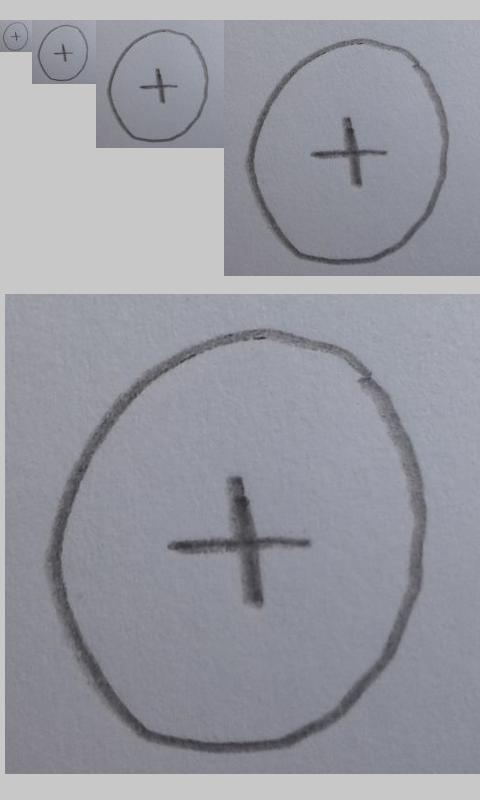button: (46, 328, 430, 756), (246, 39, 448, 266), (106, 29, 209, 143), (37, 24, 89, 82), (2, 22, 29, 51)
